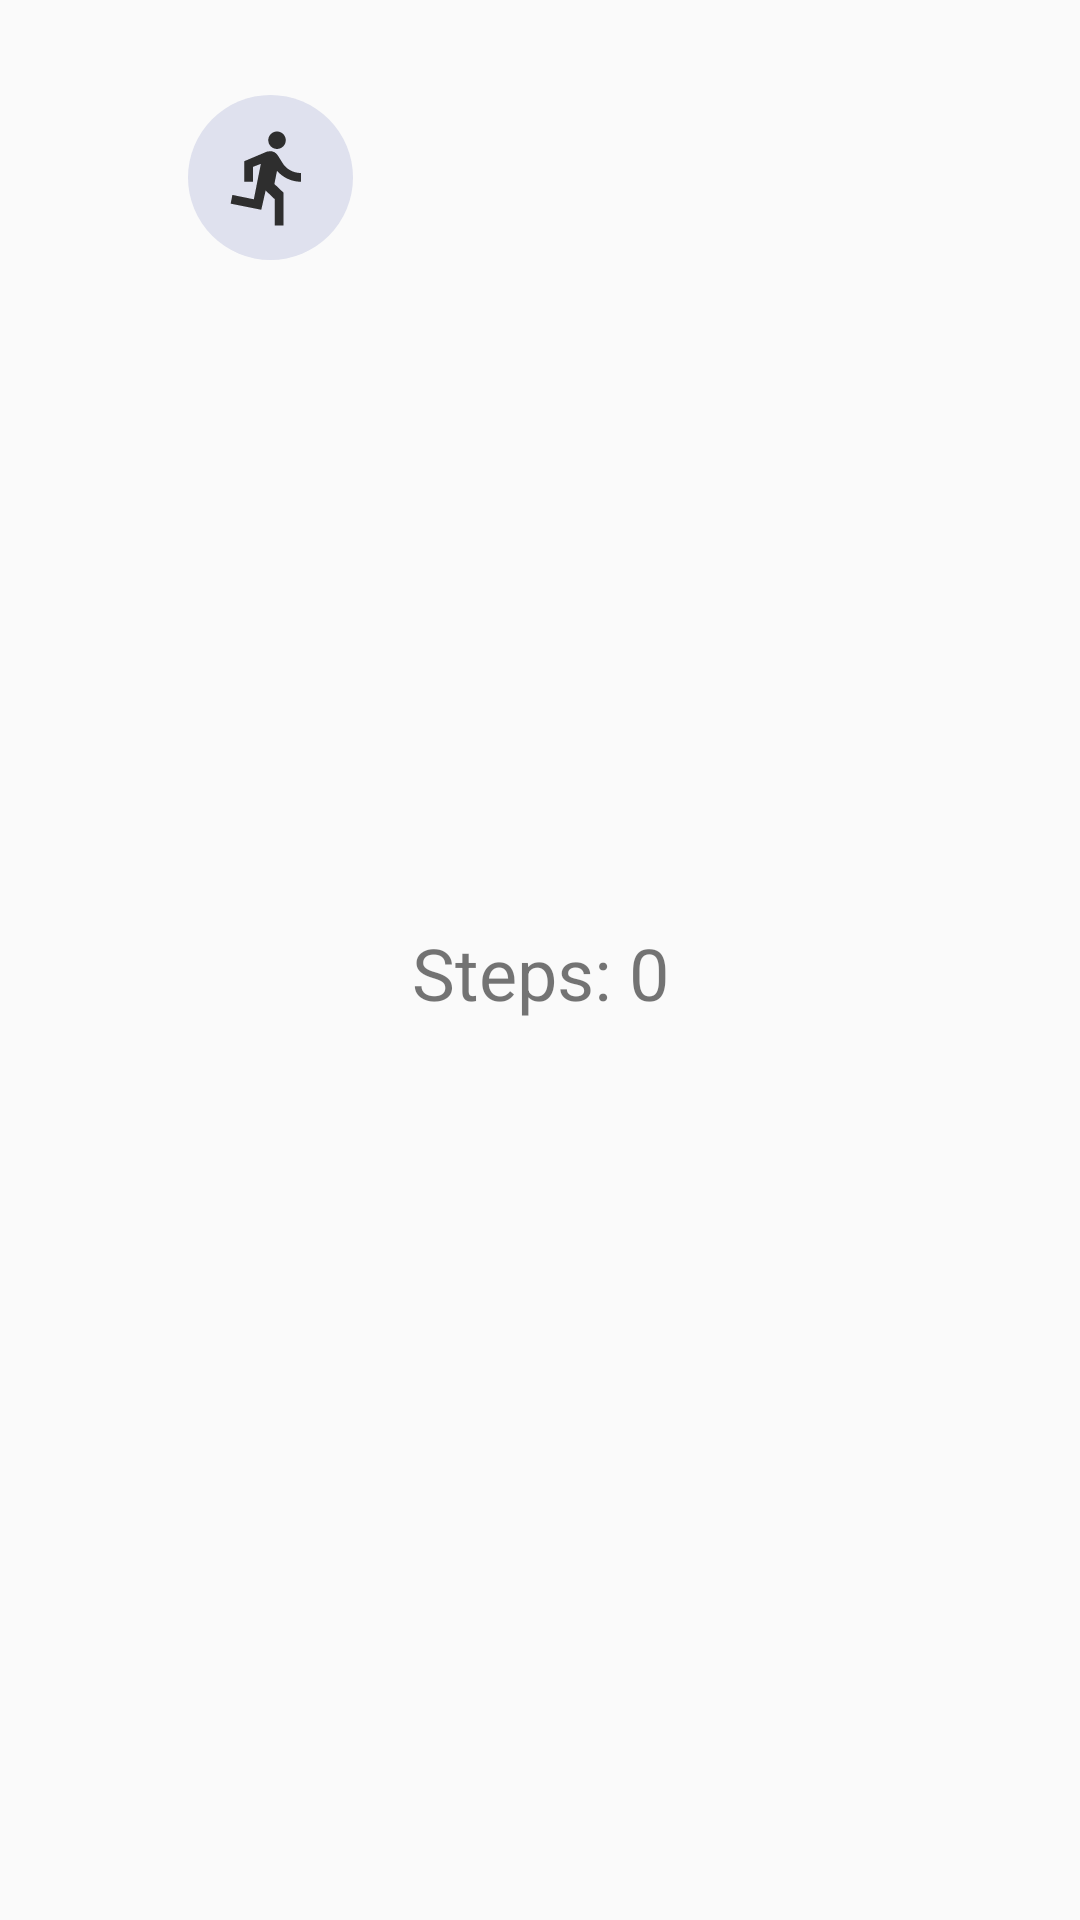

Screen size 1080px×1920px. Icon name, then its box in pixels as (x1, y1, x2, y2):
run: (188, 95, 353, 260)
